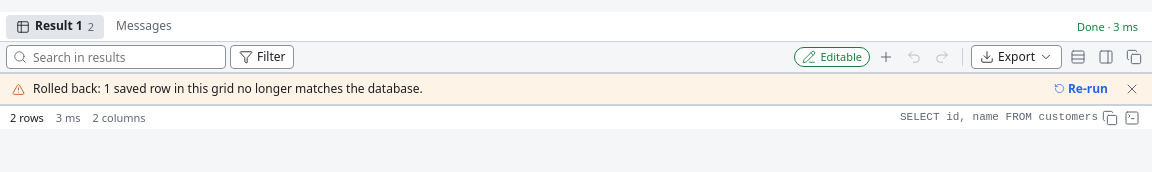
Test: result grid after the transaction of its saved rows ends (features-r2-01) › one saved row reads in the singular; Dismiss hides the notice
Expected: the message shows "Rolled back: 1 saved row in this grid no longer matches the database.", [33,80,423,97]
Click the button named "Dismiss": (1132, 89) [1120,77,1144,101]
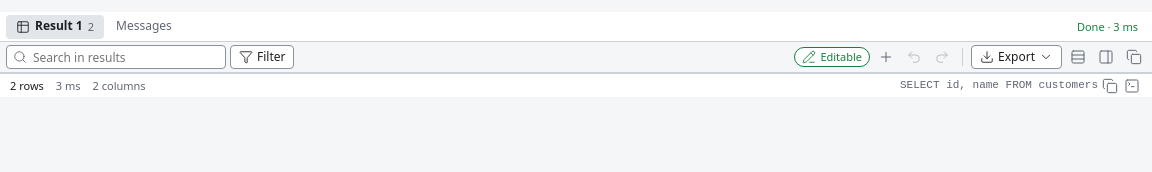
Expected: the message "Rolled back: 1 saved row in this grid no longer matches the database. Re-run" is gone
